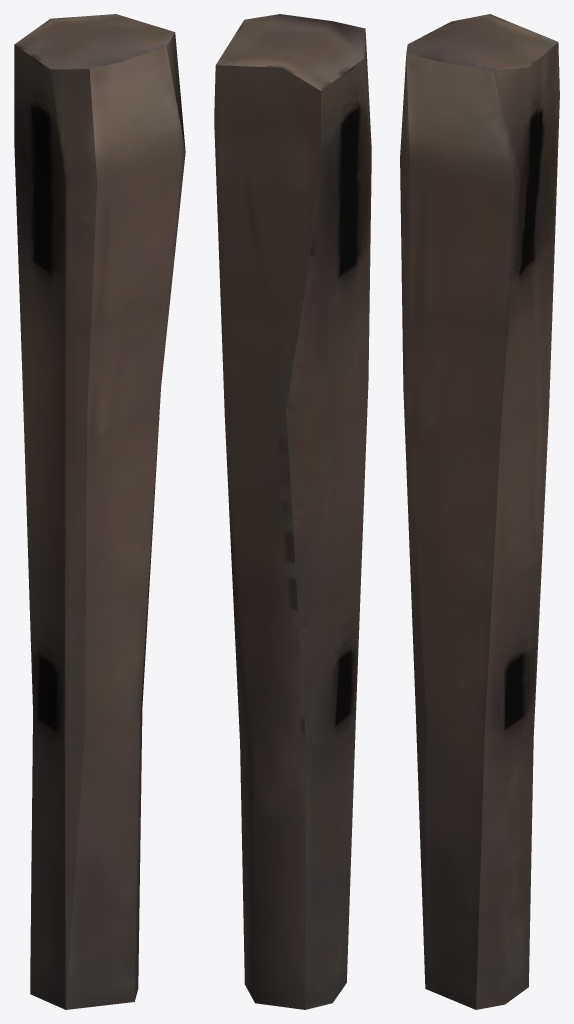
3 renders of one model, left to right at view 1: azimuth 30°, elevation 25°; view 2: azimuth 150°, elevation 25°; view 3: azimuth 330°, elevation 25°, orthographic.
Visible parts, largest first — view 1: body0_model0_lod0_mesh0; view 2: body0_model0_lod0_mesh0; view 3: body0_model0_lod0_mesh0.
Boxes of the visible parts, box(x1,y1,x2,y2) form: body0_model0_lod0_mesh0: box(14, 14, 185, 1009); body0_model0_lod0_mesh0: box(214, 14, 371, 1009); body0_model0_lod0_mesh0: box(400, 14, 559, 1009).
Size of the model in its own units: 7.66 by 57.1 by 7.33.
1 material, 1 textured.
